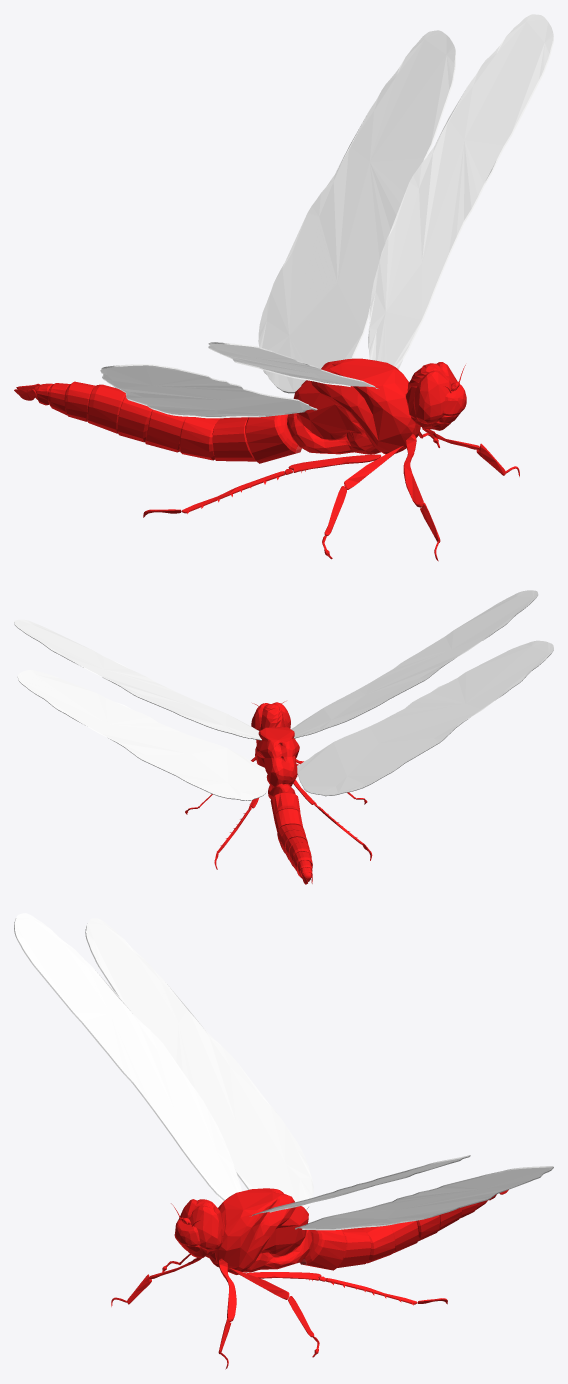
Rendered from ScarletBasker.glb.
The picture shows the model from 3 angles, top to bottom: view 1: azimuth 30°, elevation 25°; view 2: azimuth 150°, elevation 25°; view 3: azimuth 270°, elevation 25°; orthographic projection. The views are drawn at different scales.
Parts seen in each view (by area): view 1: node-0; view 2: node-0; view 3: node-0.
Part boxes in pixels (bbox=[...]): node-0: bbox=[14, 14, 553, 561]; node-0: bbox=[14, 590, 553, 884]; node-0: bbox=[14, 913, 553, 1369].
Size of the model in its own units: 3.37 by 1.61 by 2.81.
Materials: 1 (1 with a texture image).
